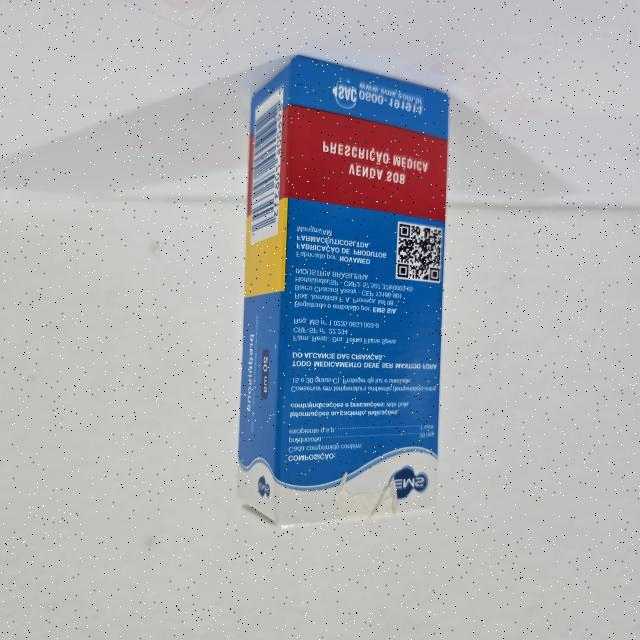prednisona: (234, 51, 454, 532)
